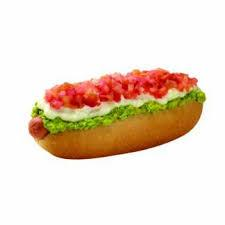Completos: (21, 62, 216, 157)
